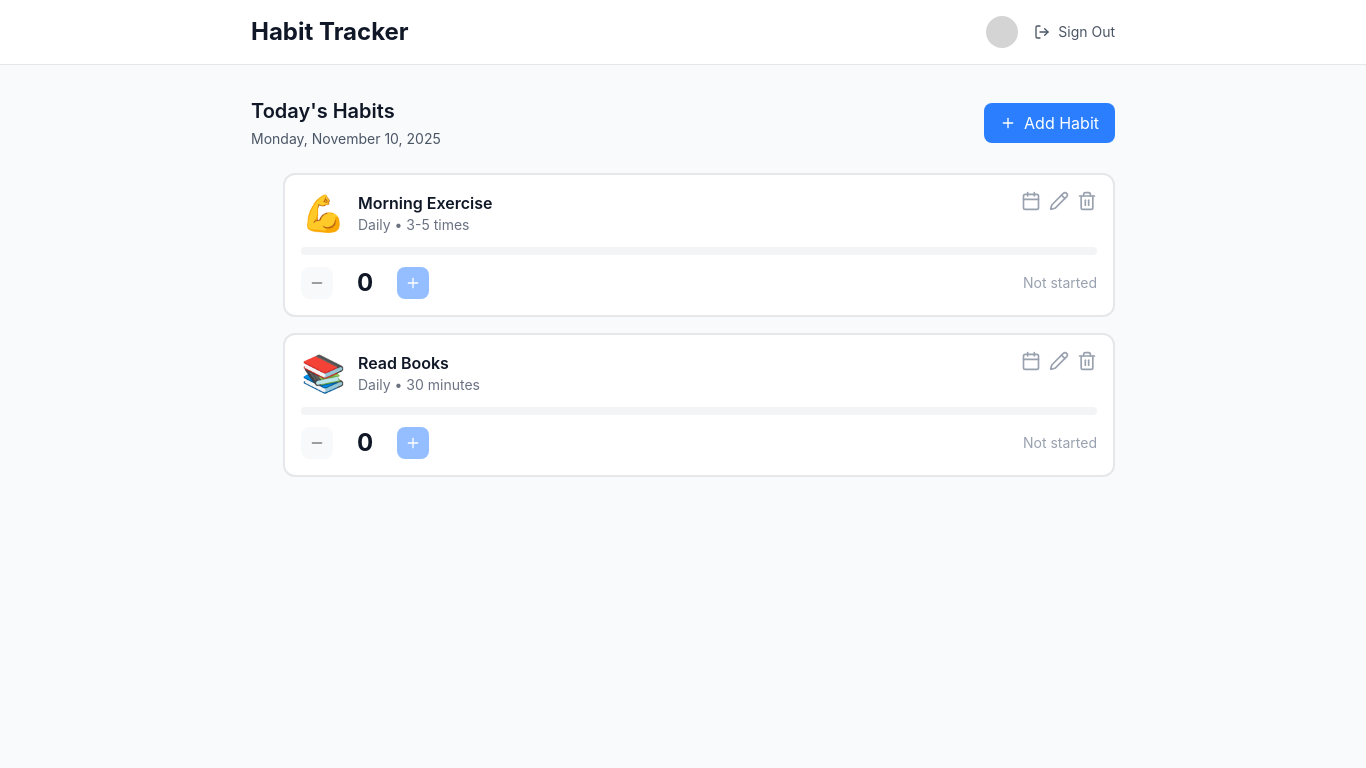
Test: Dashboard › Edit Functionality › opens edit form when edit button is clicked
Click the button titled "Edit habit" in the row of "Morning Exercise" at (1059,201), box 1049,191 -> 1069,211
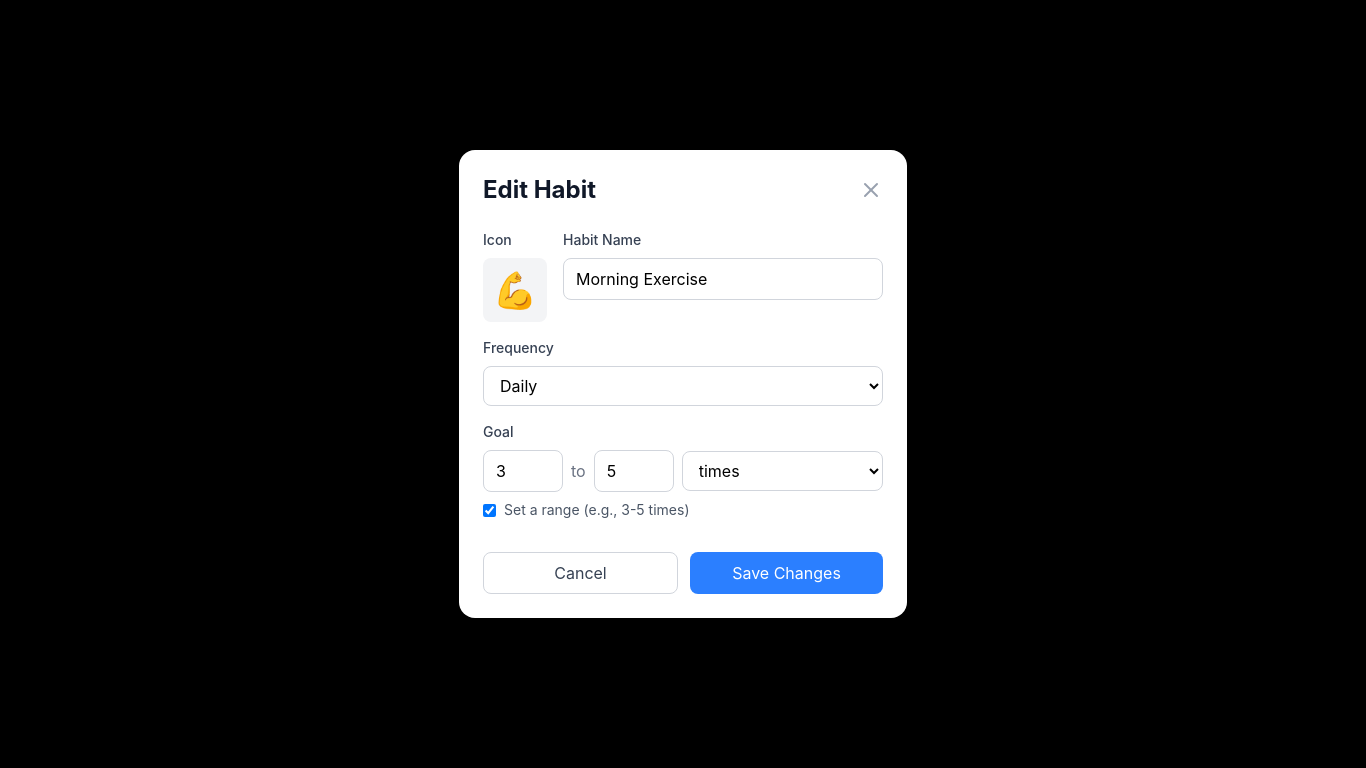
Result: the heading "Edit Habit" is shown at 483,174 -> 596,206
